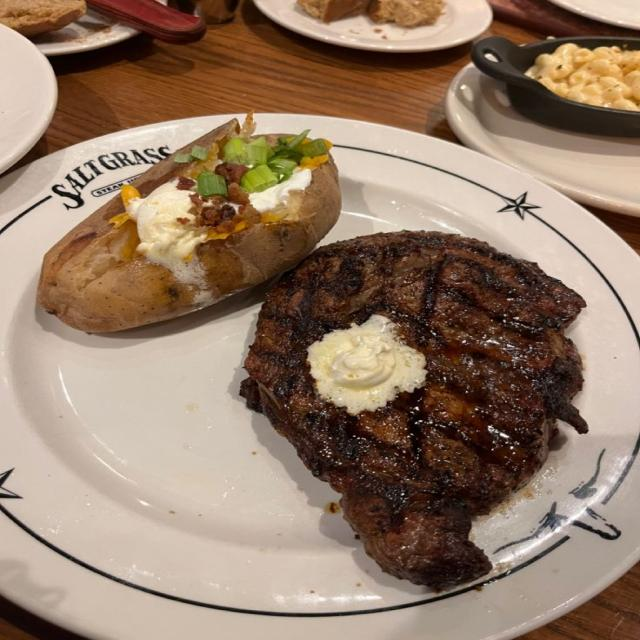beef steak: (243, 231, 587, 588)
boiled potato: (37, 112, 340, 332)
